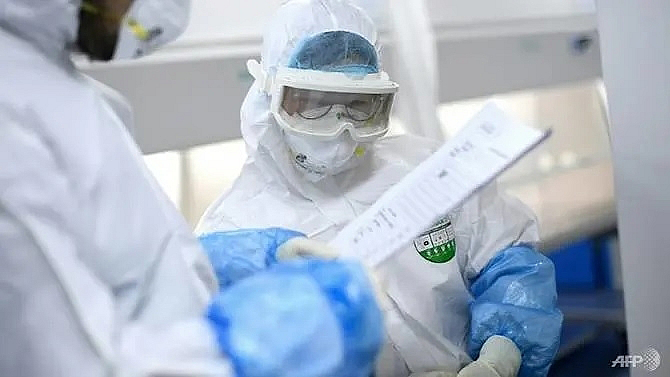Coverall: (192, 1, 540, 375), (1, 2, 228, 374)
Gloves: (459, 336, 523, 375)
Goggles: (275, 70, 397, 143)
with_mask: (284, 103, 379, 184), (114, 1, 190, 63)
